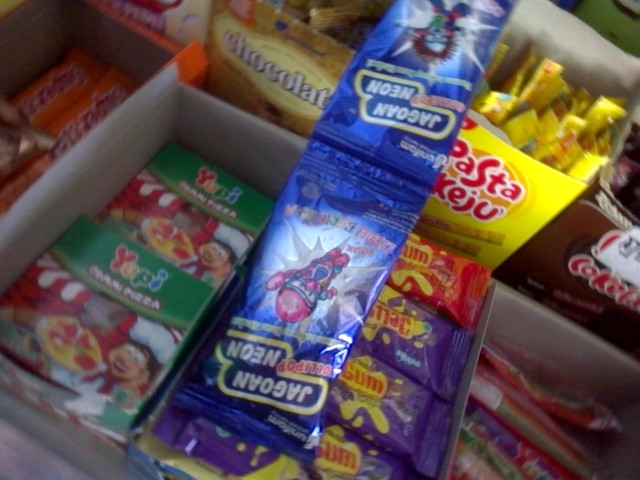jagoan neon: (169, 138, 428, 462), (307, 1, 516, 197)
